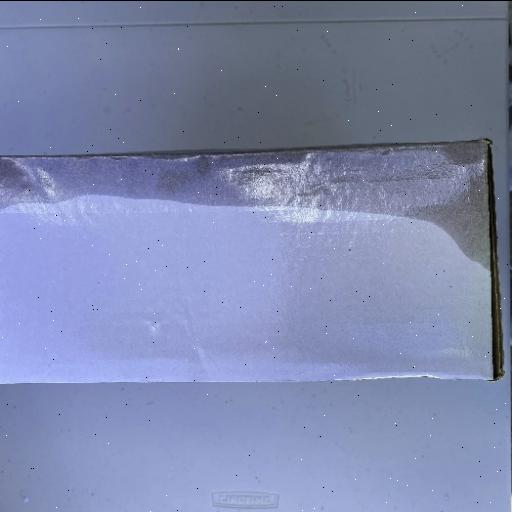Cardboard: (1, 137, 501, 384)
